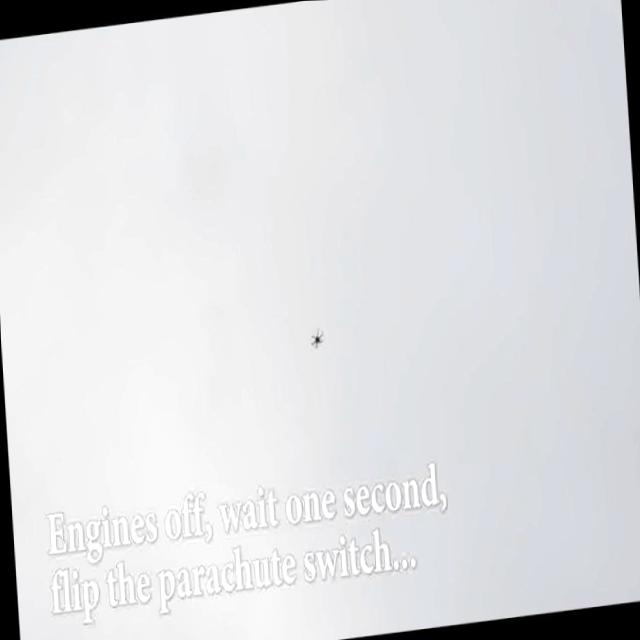drone: (306, 320, 325, 353)
